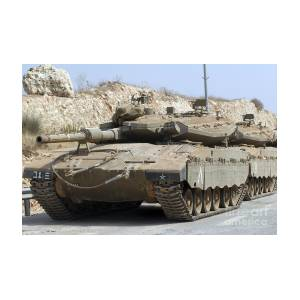Battle Tank: (23, 94, 246, 220), (238, 112, 277, 201)
